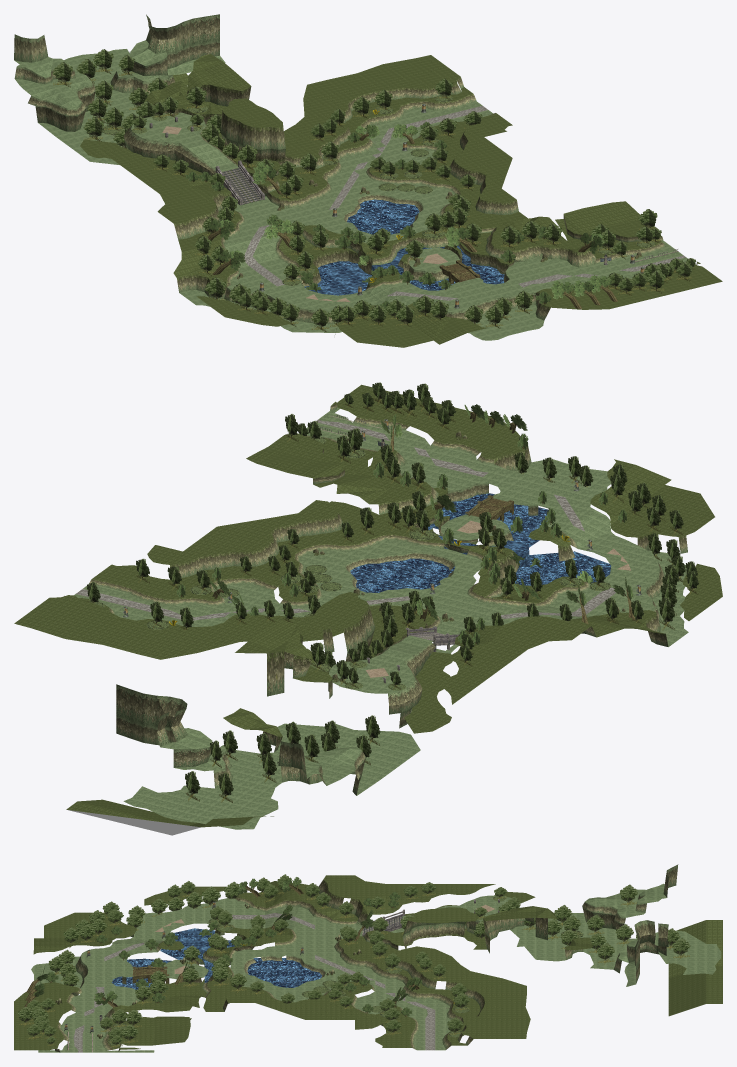
Rendered from Ursula5.obj.
3 renders of one model, top to bottom at view 1: azimuth 30°, elevation 25°; view 2: azimuth 150°, elevation 25°; view 3: azimuth 270°, elevation 25°, orthographic. The views are drawn at different scales.
Parts seen in each view (by area): view 1: Object.57, Object.31, Object.32, Object.35, Object.53, Object.34, Object.51, Object.50, Object.41, Object.36, Object.104, Object.101 (+57 smaller); view 2: Object.57, Object.35, Object.31, Object.34, Object.36, Object.56, Object.32, Object.50, Object.51, Object.53, Object.41, Object.42 (+45 smaller); view 3: Object.57, Object.31, Object.35, Object.32, Object.41, Object.53, Object.34, Object.36, Object.51, Object.104, Object.50, Object.47 (+53 smaller).
Boxes of the visible parts, bbox=[...] form: Object.57: bbox=[25, 72, 668, 289]; Object.31: bbox=[303, 58, 460, 146]; Object.32: bbox=[173, 61, 354, 165]; Object.35: bbox=[445, 175, 627, 250]; Object.53: bbox=[252, 157, 439, 235]; Object.34: bbox=[371, 121, 512, 191]; Object.51: bbox=[397, 271, 544, 340]; Object.50: bbox=[179, 258, 390, 332]; Object.41: bbox=[143, 172, 302, 267]; Object.36: bbox=[497, 221, 697, 309]; Object.104: bbox=[198, 230, 328, 326]; Object.101: bbox=[403, 111, 696, 295]; Object.57: bbox=[207, 417, 481, 795]; Object.35: bbox=[257, 452, 430, 547]; Object.31: bbox=[31, 597, 264, 659]; Object.34: bbox=[111, 518, 317, 600]; Object.36: bbox=[284, 392, 523, 496]; Object.56: bbox=[147, 550, 668, 829]; Object.32: bbox=[198, 592, 392, 682]; Object.50: bbox=[550, 525, 688, 646]; Object.51: bbox=[457, 459, 611, 531]; Object.53: bbox=[274, 547, 493, 634]; Object.41: bbox=[433, 597, 637, 664]; Object.42: bbox=[404, 651, 506, 733]; Object.57: bbox=[61, 893, 638, 1046]; Object.31: bbox=[408, 977, 530, 1039]; Object.35: bbox=[144, 983, 284, 1039]; Object.32: bbox=[408, 906, 535, 979]; Object.41: bbox=[277, 875, 415, 935]; Object.53: bbox=[255, 933, 394, 990]; Object.34: bbox=[273, 982, 415, 1045]; Object.36: bbox=[14, 982, 157, 1043]; Object.51: bbox=[31, 939, 133, 991]; Object.104: bbox=[151, 877, 278, 942]; Object.50: bbox=[130, 898, 264, 941]; Object.47: bbox=[668, 944, 722, 1016].
Size of the model in its own units: 113 by 24.22 by 198.
